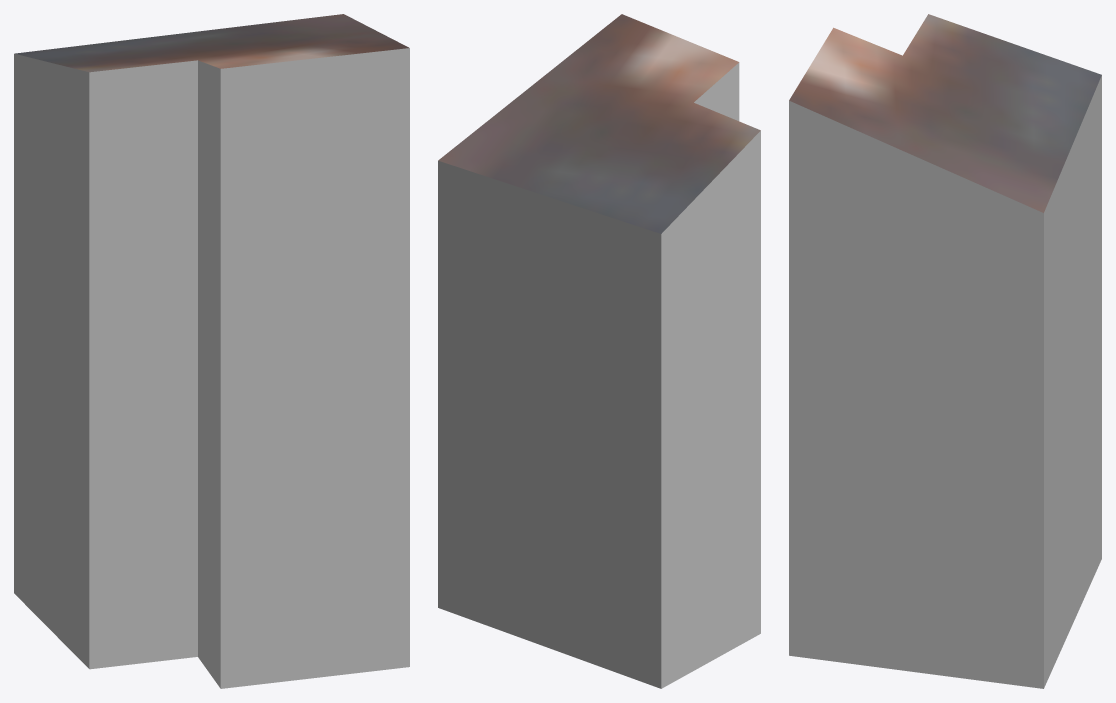
File: DEBW_0010007THVY.gltf
The picture shows the model from 3 angles, left to right: view 1: azimuth 30°, elevation 25°; view 2: azimuth 150°, elevation 25°; view 3: azimuth 270°, elevation 25°; orthographic projection. The views are drawn at different scales.
Visible parts, largest first — view 1: Z_UP; view 2: Z_UP; view 3: Z_UP.
Part boxes in pixels (x1=…): Z_UP: x1=14, y1=14, x2=409, y2=688; Z_UP: x1=438, y1=14, x2=760, y2=688; Z_UP: x1=789, y1=14, x2=1101, y2=688.
Size of the model in its own units: 3.86 by 7.18 by 3.66.
2 materials, 1 textured.
